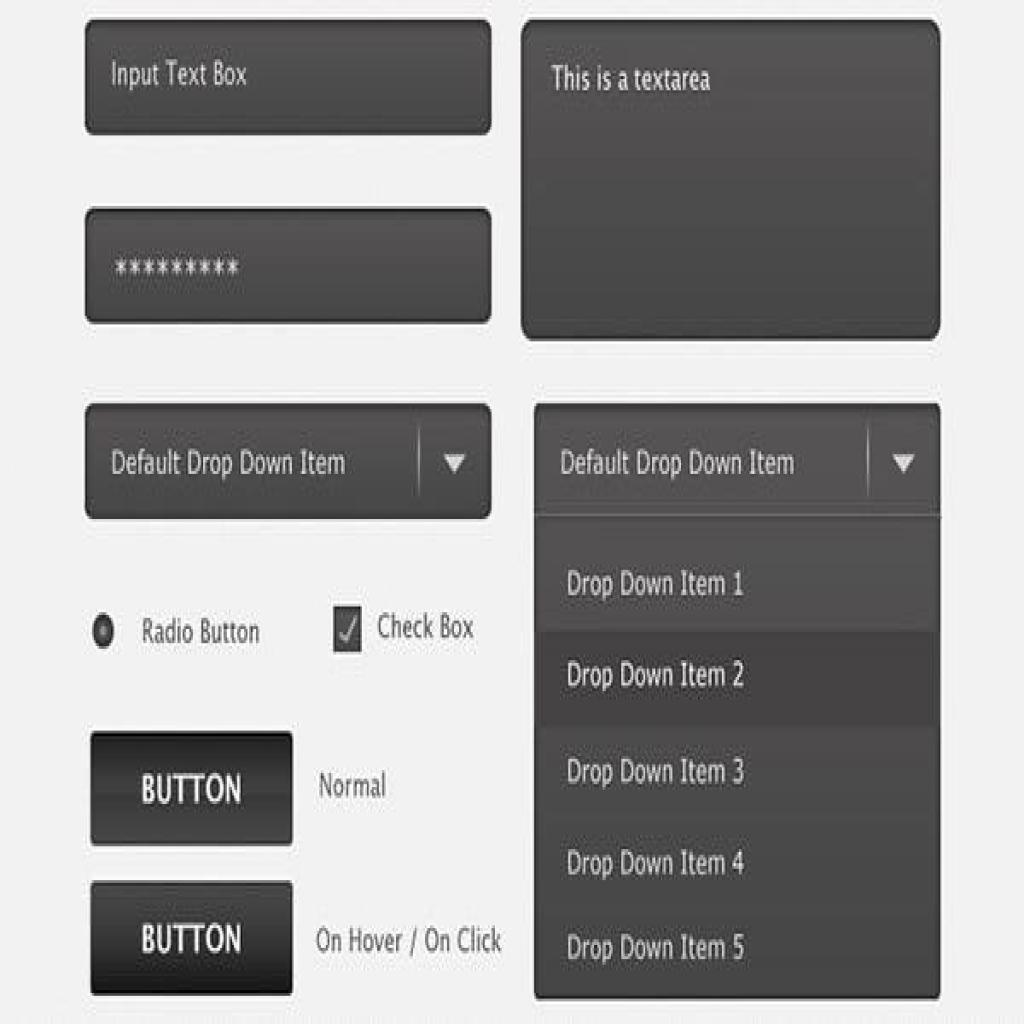button: (88, 880, 294, 999), (89, 731, 295, 846)
checkbox: (333, 606, 362, 652)
dropdown: (84, 401, 493, 519), (536, 401, 940, 519)
input: (86, 206, 492, 324), (84, 20, 493, 132)
label: (310, 920, 507, 964), (133, 612, 270, 657), (375, 609, 483, 649), (316, 770, 392, 810)
radio: (89, 609, 118, 652)
